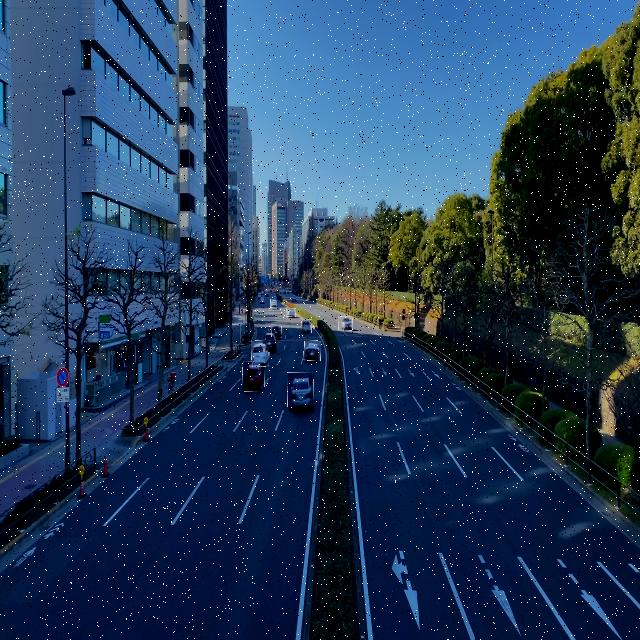Car: (288, 372, 314, 413), (243, 362, 265, 392), (252, 341, 270, 367), (304, 341, 321, 361), (264, 332, 276, 352), (338, 316, 353, 331), (301, 319, 312, 334), (272, 324, 282, 338), (286, 309, 296, 317), (270, 300, 277, 310)
